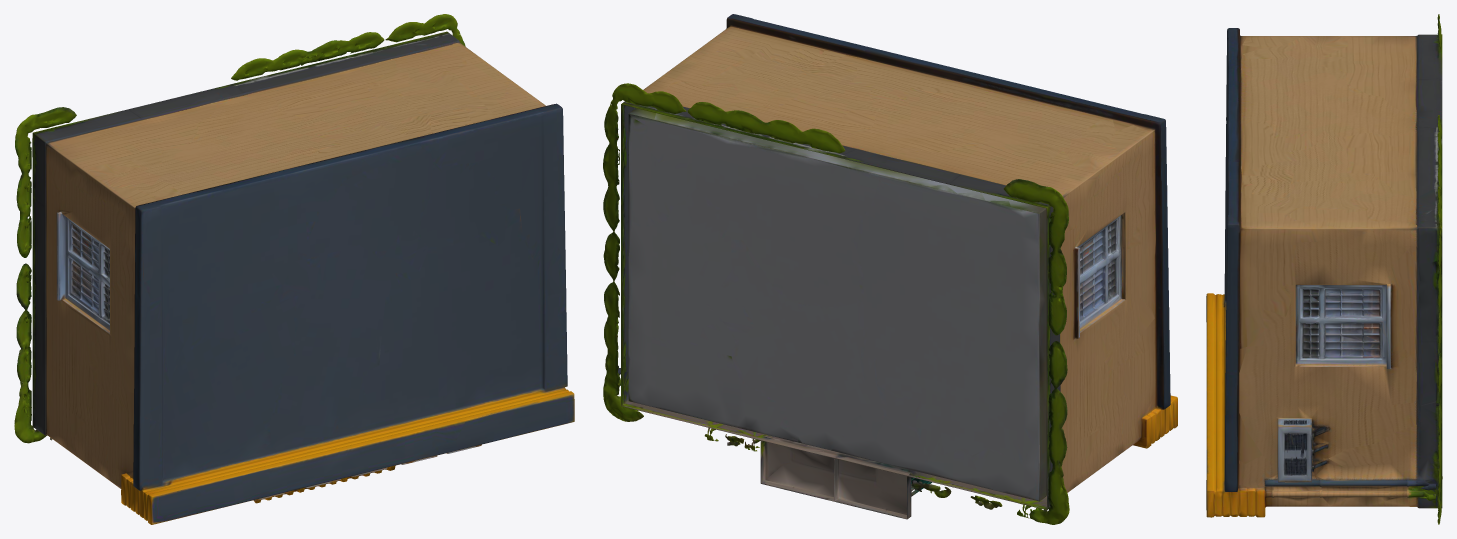
File: duken.glb
The picture shows the model from 3 angles, left to right: view 1: azimuth 30°, elevation 25°; view 2: azimuth 150°, elevation 25°; view 3: azimuth 270°, elevation 25°; orthographic projection. The views are drawn at different scales.
Visible parts, largest first — view 1: duken; view 2: duken; view 3: duken.
Part boxes in pixels (x1,y1,x2,y2): duken: [14, 14, 574, 524]; duken: [603, 14, 1177, 524]; duken: [1206, 14, 1442, 524].
Size of the model in its own units: 9 by 6.91 by 4.24.
1 material, 1 textured.
